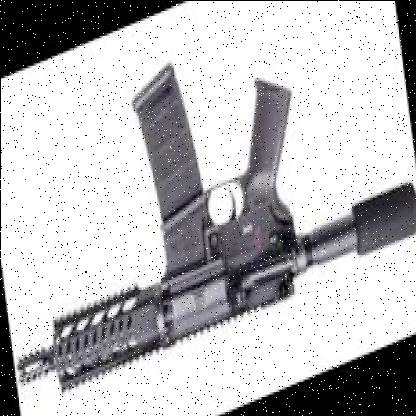rifle: (0, 0, 416, 408)
